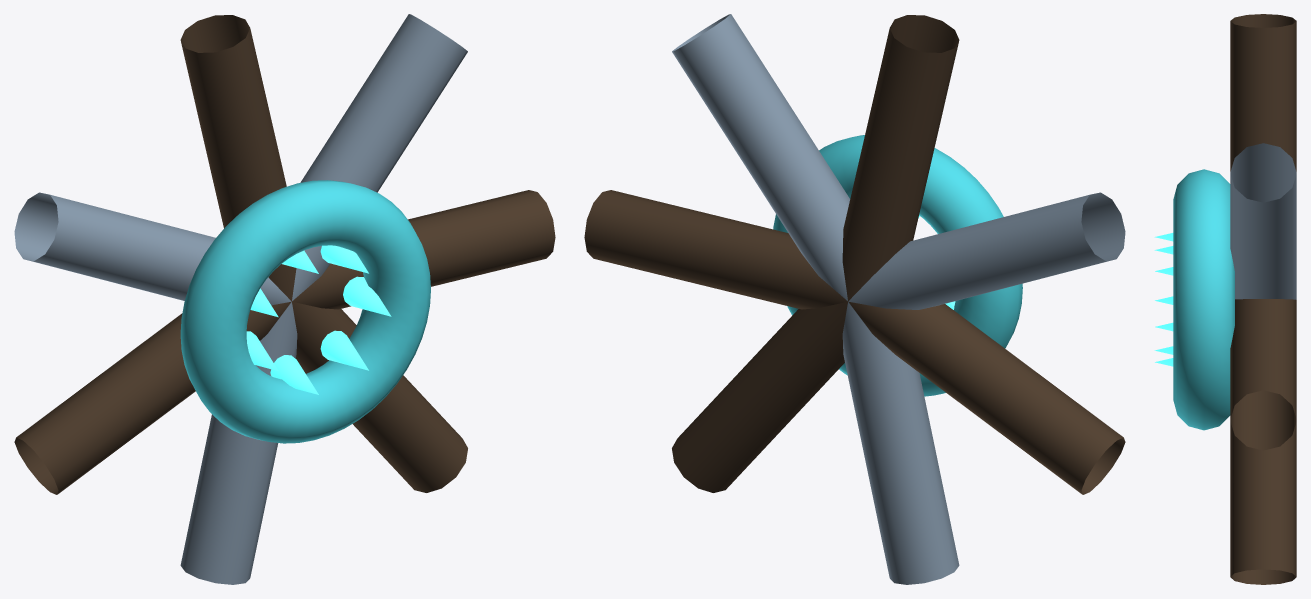
File: aberration_v3.glb
The picture shows the model from 3 angles, left to right: view 1: azimuth 30°, elevation 25°; view 2: azimuth 150°, elevation 25°; view 3: azimuth 270°, elevation 25°; orthographic projection. The views are drawn at different scales.
Visible parts, largest first — view 1: STAR_MAW_ACCENT, STAR_LIMB_SECONDARY.002, STAR_LIMB_SECONDARY.001, STAR_LIMB_PRIMARY, STAR_LIMB_PRIMARY.001, STAR_LIMB_PRIMARY.002, STAR_LIMB_SECONDARY, STAR_LIMB_SECONDARY.003, MAW_TOOTH_EMISSIVE.006, MAW_TOOTH_EMISSIVE, MAW_TOOTH_EMISSIVE.005, MAW_TOOTH_EMISSIVE.001; view 2: STAR_LIMB_SECONDARY.002, STAR_LIMB_PRIMARY, STAR_LIMB_SECONDARY.001, STAR_LIMB_PRIMARY.002, STAR_LIMB_PRIMARY.001, STAR_LIMB_SECONDARY, STAR_LIMB_SECONDARY.003, STAR_MAW_ACCENT; view 3: STAR_MAW_ACCENT, STAR_LIMB_PRIMARY, STAR_LIMB_SECONDARY, STAR_LIMB_SECONDARY.003, STAR_LIMB_SECONDARY.001.
Part boxes in pixels (bbox=[...]): STAR_MAW_ACCENT: bbox=[180, 180, 430, 443]; STAR_LIMB_SECONDARY.002: bbox=[14, 301, 291, 494]; STAR_LIMB_SECONDARY.001: bbox=[180, 15, 296, 301]; STAR_LIMB_PRIMARY: bbox=[292, 14, 467, 300]; STAR_LIMB_PRIMARY.001: bbox=[14, 192, 291, 305]; STAR_LIMB_PRIMARY.002: bbox=[180, 302, 297, 584]; STAR_LIMB_SECONDARY: bbox=[292, 190, 555, 309]; STAR_LIMB_SECONDARY.003: bbox=[292, 301, 467, 492]; MAW_TOOTH_EMISSIVE.006: bbox=[320, 330, 368, 370]; MAW_TOOTH_EMISSIVE: bbox=[343, 276, 391, 316]; MAW_TOOTH_EMISSIVE.005: bbox=[270, 355, 318, 394]; MAW_TOOTH_EMISSIVE.001: bbox=[320, 245, 368, 273]; STAR_LIMB_SECONDARY.002: bbox=[848, 301, 1125, 494]; STAR_LIMB_PRIMARY: bbox=[672, 14, 850, 300]; STAR_LIMB_SECONDARY.001: bbox=[842, 15, 959, 301]; STAR_LIMB_PRIMARY.002: bbox=[842, 302, 959, 584]; STAR_LIMB_PRIMARY.001: bbox=[848, 192, 1125, 309]; STAR_LIMB_SECONDARY: bbox=[584, 190, 847, 309]; STAR_LIMB_SECONDARY.003: bbox=[672, 301, 847, 492]; STAR_MAW_ACCENT: bbox=[773, 135, 1022, 396]; STAR_MAW_ACCENT: bbox=[1173, 169, 1234, 430]; STAR_LIMB_PRIMARY: bbox=[1230, 143, 1296, 299]; STAR_LIMB_SECONDARY: bbox=[1230, 299, 1296, 450]; STAR_LIMB_SECONDARY.003: bbox=[1230, 421, 1296, 584]; STAR_LIMB_SECONDARY.001: bbox=[1230, 14, 1296, 171].
Size of the model in its own units: 2.34 by 2.4 by 0.6.
